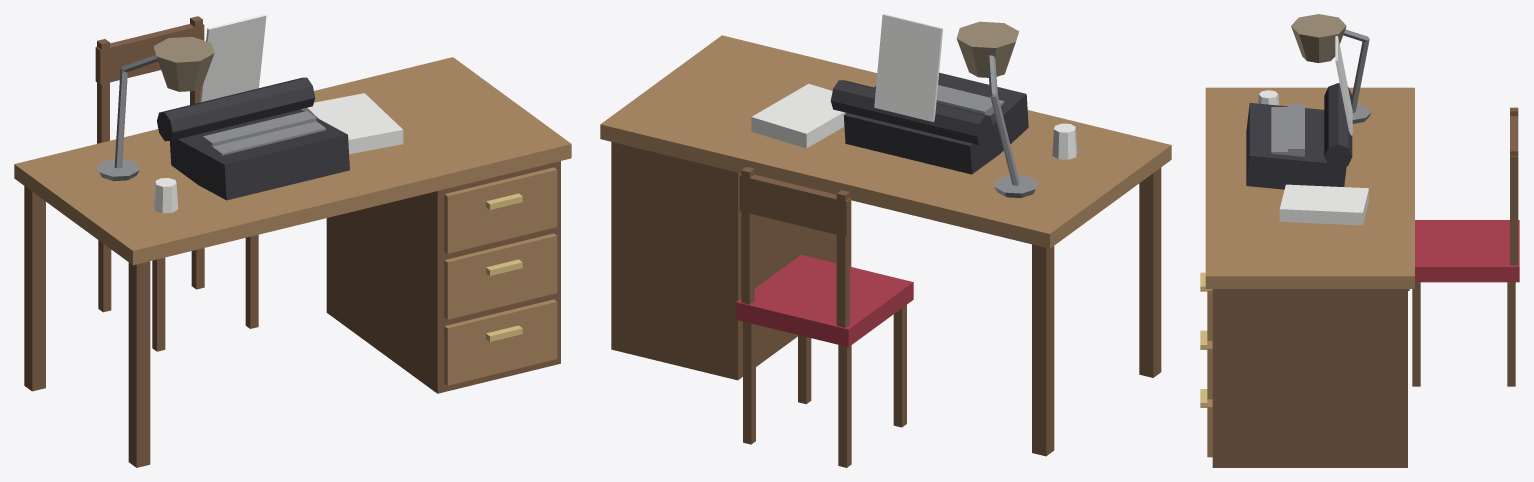
File: HJ_Escritorio.fbx
3 renders of one model, left to right at view 1: azimuth 30°, elevation 25°; view 2: azimuth 150°, elevation 25°; view 3: azimuth 270°, elevation 25°, orthographic. The views are drawn at different scales.
Parts seen in each view (by area): view 1: HJ_Escritorio; view 2: HJ_Escritorio; view 3: HJ_Escritorio.
Boxes of the visible parts, bbox=[...] form: HJ_Escritorio: bbox=[14, 14, 571, 467]; HJ_Escritorio: bbox=[600, 14, 1171, 467]; HJ_Escritorio: bbox=[1200, 14, 1519, 467].
Bounding box in the file's own units: 1.6 × 1.23 × 1.14.
